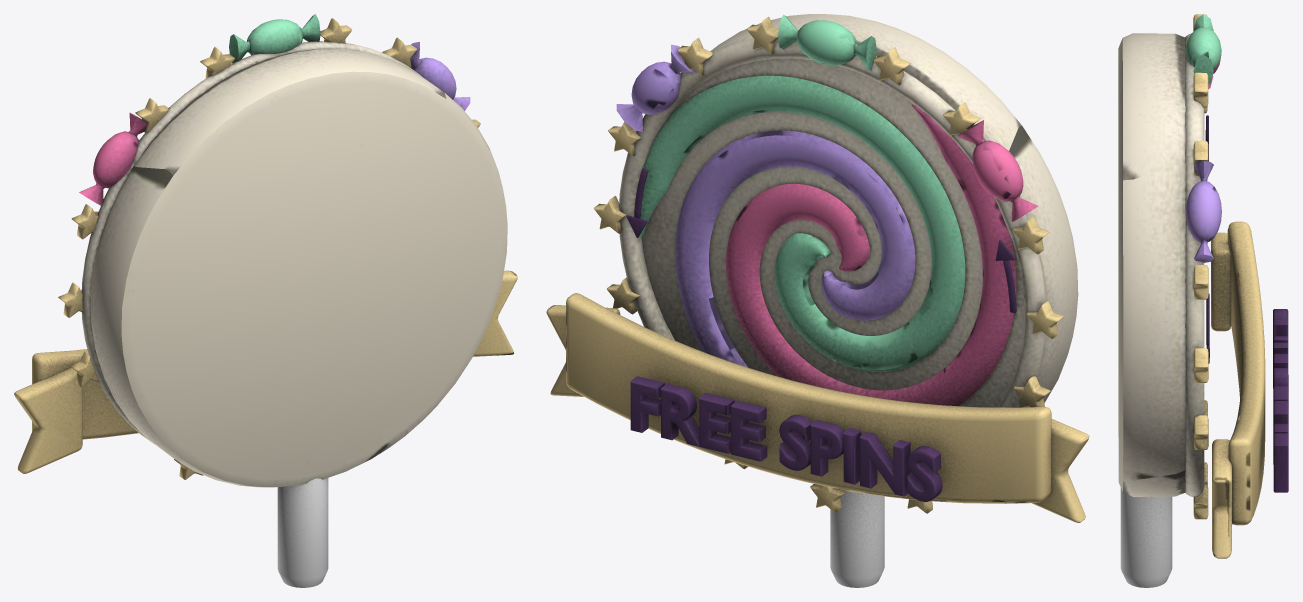
3 renders of one model, left to right at view 1: azimuth 30°, elevation 25°; view 2: azimuth 150°, elevation 25°; view 3: azimuth 270°, elevation 25°, orthographic. The views are drawn at different scales.
Visible parts, largest first — view 1: Vanilla_candy, Golden_cream_ribbon, White_sugar_stick, Strawberry_candy, Mint_candy, Lavender_candy; view 2: Vanilla_candy, Golden_cream_ribbon, Mint_candy, Strawberry_candy, Lavender_candy, Berry_lettering, White_sugar_stick; view 3: Vanilla_candy, Golden_cream_ribbon, White_sugar_stick, Berry_lettering, Lavender_candy, Mint_candy.
Part boxes in pixels (x1,y1,x2,y2): Vanilla_candy: [81, 41, 507, 487]; Golden_cream_ribbon: [14, 18, 517, 479]; White_sugar_stick: [277, 478, 328, 587]; Strawberry_candy: [79, 112, 148, 205]; Mint_candy: [229, 14, 320, 63]; Lavender_candy: [410, 42, 470, 110]; Vanilla_candy: [619, 14, 1078, 492]; Golden_cream_ribbon: [546, 16, 1089, 522]; Mint_candy: [638, 14, 965, 372]; Strawberry_candy: [726, 104, 1038, 406]; Lavender_candy: [616, 44, 915, 367]; Berry_lettering: [626, 168, 1016, 501]; White_sugar_stick: [830, 491, 884, 587]; Vanilla_candy: [1118, 33, 1204, 496]; Golden_cream_ribbon: [1193, 14, 1265, 558]; White_sugar_stick: [1120, 487, 1172, 587]; Berry_lettering: [1205, 115, 1288, 492]; Lavender_candy: [1186, 161, 1221, 262]; Mint_candy: [1185, 14, 1221, 84].
Bounding box in the file's own units: 2.62 × 2.72 × 0.7619.
Materials: 7 (7 with a texture image).
